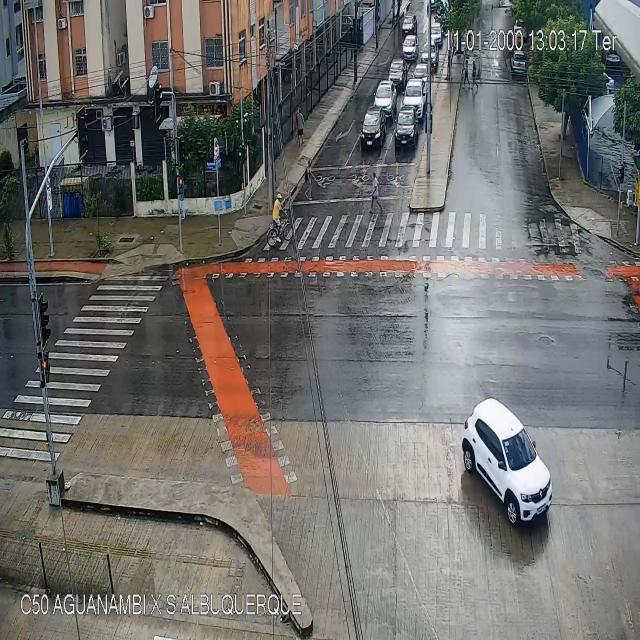Car: (464, 401, 551, 526), (361, 107, 386, 146), (373, 80, 398, 119), (396, 106, 418, 148), (402, 79, 426, 116), (387, 59, 407, 85), (421, 40, 439, 68), (402, 35, 418, 60), (412, 63, 428, 87), (510, 51, 526, 73), (402, 14, 418, 36), (430, 23, 443, 45)
